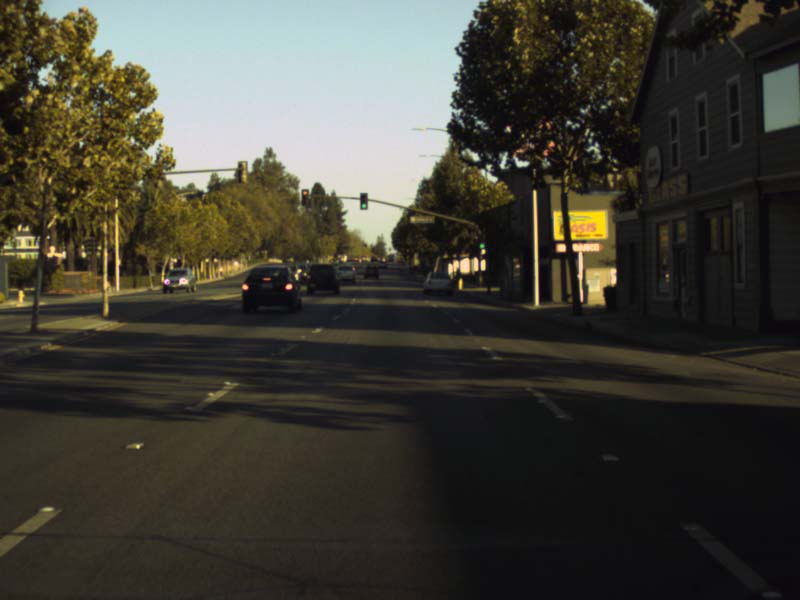Green: (359, 191, 368, 209), (478, 235, 484, 249)
Red: (301, 189, 308, 205)
